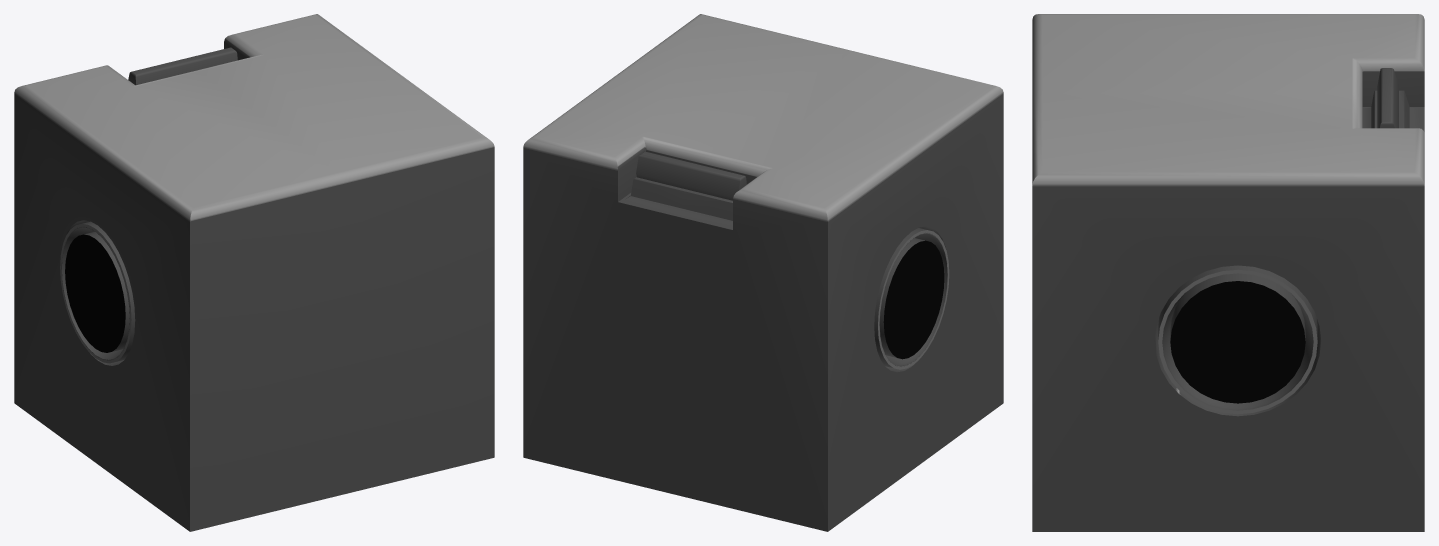
File: BoxContainer.dae
3 views of the same model, side by side, from view 1: azimuth 30°, elevation 25°; view 2: azimuth 150°, elevation 25°; view 3: azimuth 270°, elevation 25° (orthographic). The views are drawn at different scales.
Parts seen in each view (by area): view 1: BoxContainer; view 2: BoxContainer; view 3: BoxContainer.
Part boxes in pixels (left/top/right/bottom): BoxContainer: left=14, top=14, right=494, bottom=531; BoxContainer: left=523, top=14, right=1003, bottom=531; BoxContainer: left=1032, top=14, right=1424, bottom=531.
Size of what is drawn, in the model's own units: 0.645 by 0.6344 by 0.6344.
Materials: 1 (1 with a texture image).
